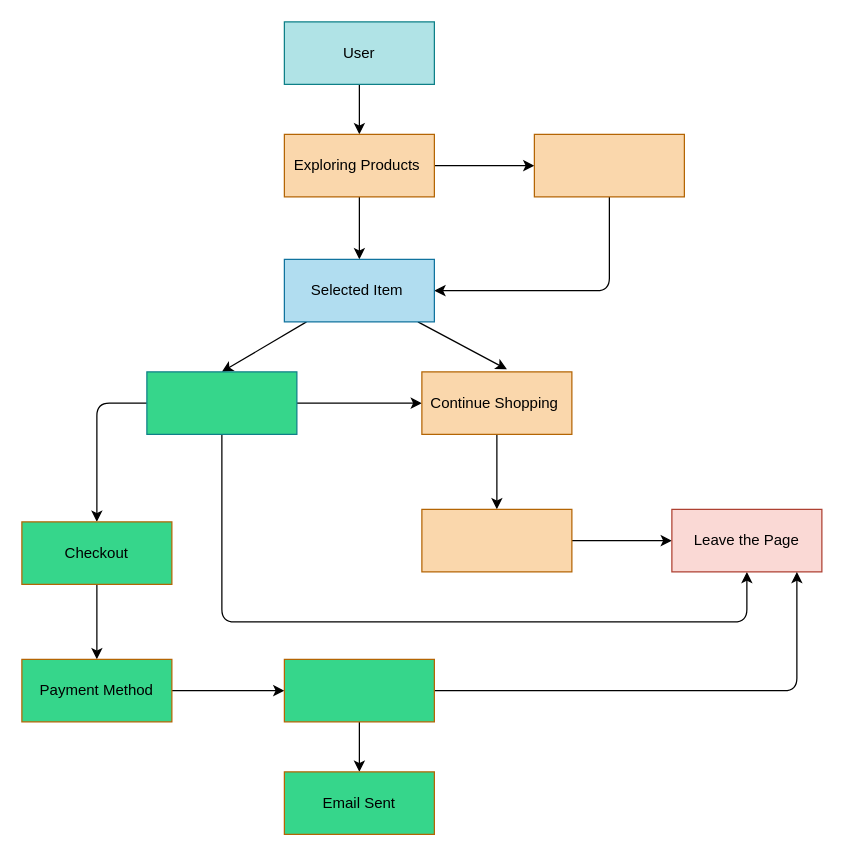
Image size: 844x856. Some labels were removed from this diagram. The box of each missing label's shape, as (x1, y1, x2, y2) in pixels:
Add it to Cart: (146, 371, 297, 434)
Explore/Search Page: (421, 508, 572, 572)
Payment Confirmation: (283, 658, 434, 722)
Searching Products: (533, 133, 684, 197)
